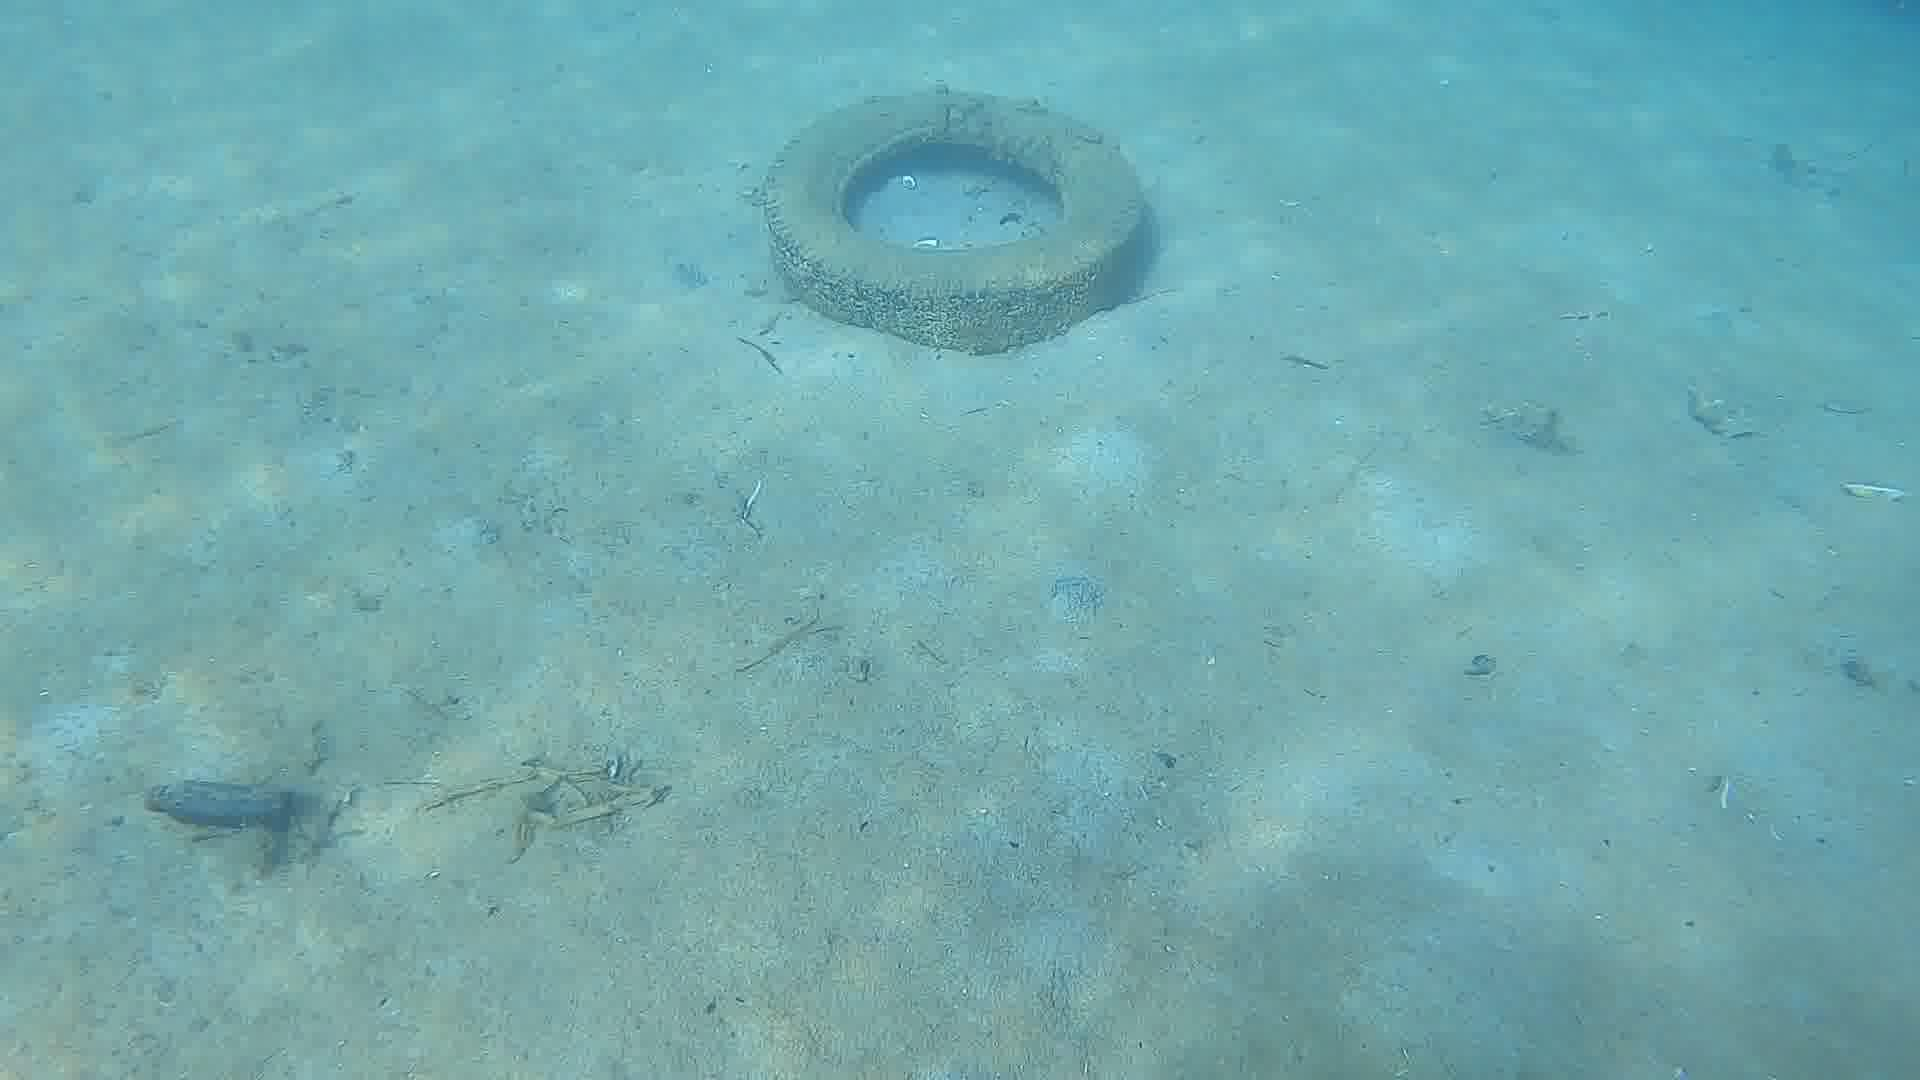tire: (761, 90, 1147, 353)
